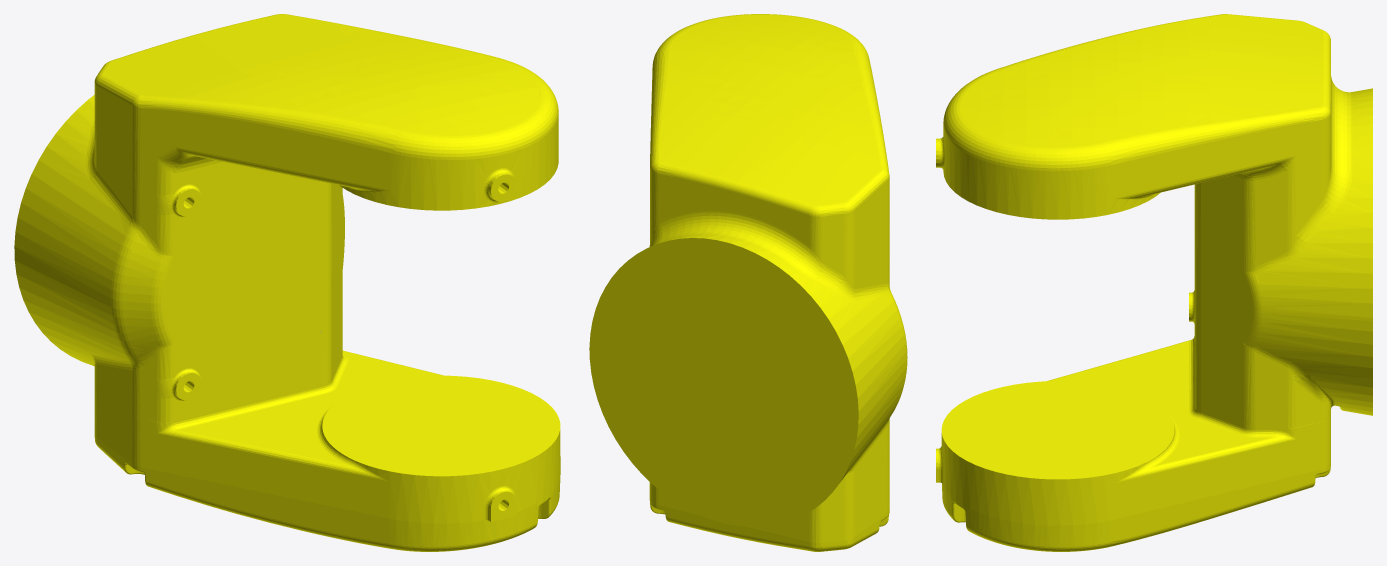
3 views of the same model, side by side, from view 1: azimuth 30°, elevation 25°; view 2: azimuth 150°, elevation 25°; view 3: azimuth 270°, elevation 25° (orthographic). The views are drawn at different scales.
Parts seen in each view (by area): view 1: node; view 2: node; view 3: node.
Boxes of the visible parts, bbox=[...] form: node: bbox=[14, 14, 560, 551]; node: bbox=[589, 14, 907, 551]; node: bbox=[936, 14, 1372, 551].
Bounding box in the file's own units: 229 × 249 × 240.
